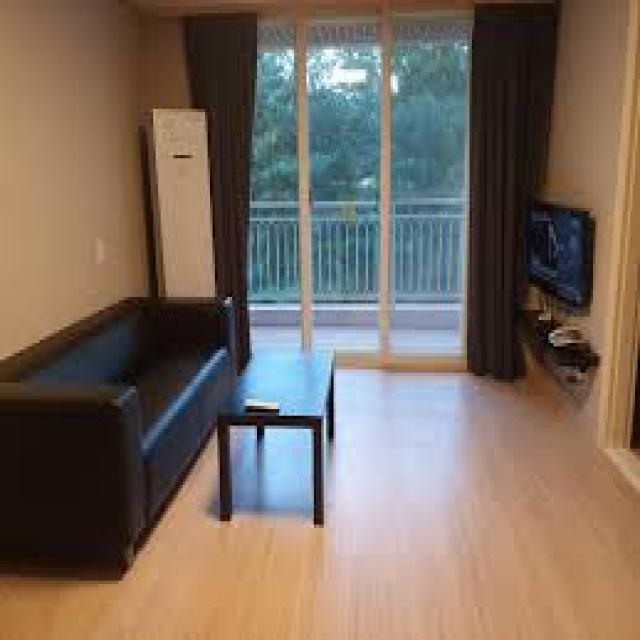Sofa: (3, 293, 233, 576)
Table: (218, 342, 339, 528)
tv: (517, 198, 595, 307)
window: (220, 20, 512, 363)
